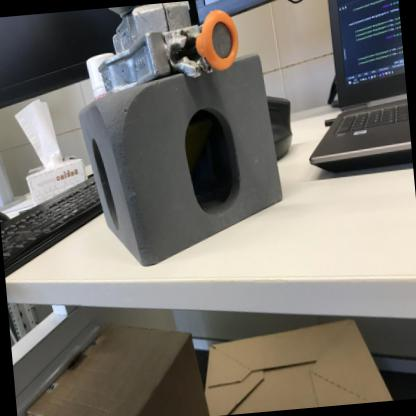CornerCasting: (67, 48, 292, 277)
Twistlock: (91, 0, 246, 99)
